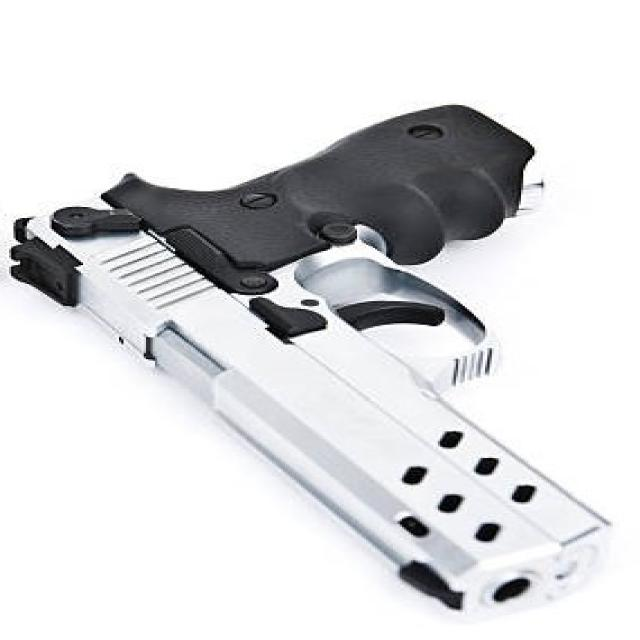pistol: (1, 103, 626, 625)
